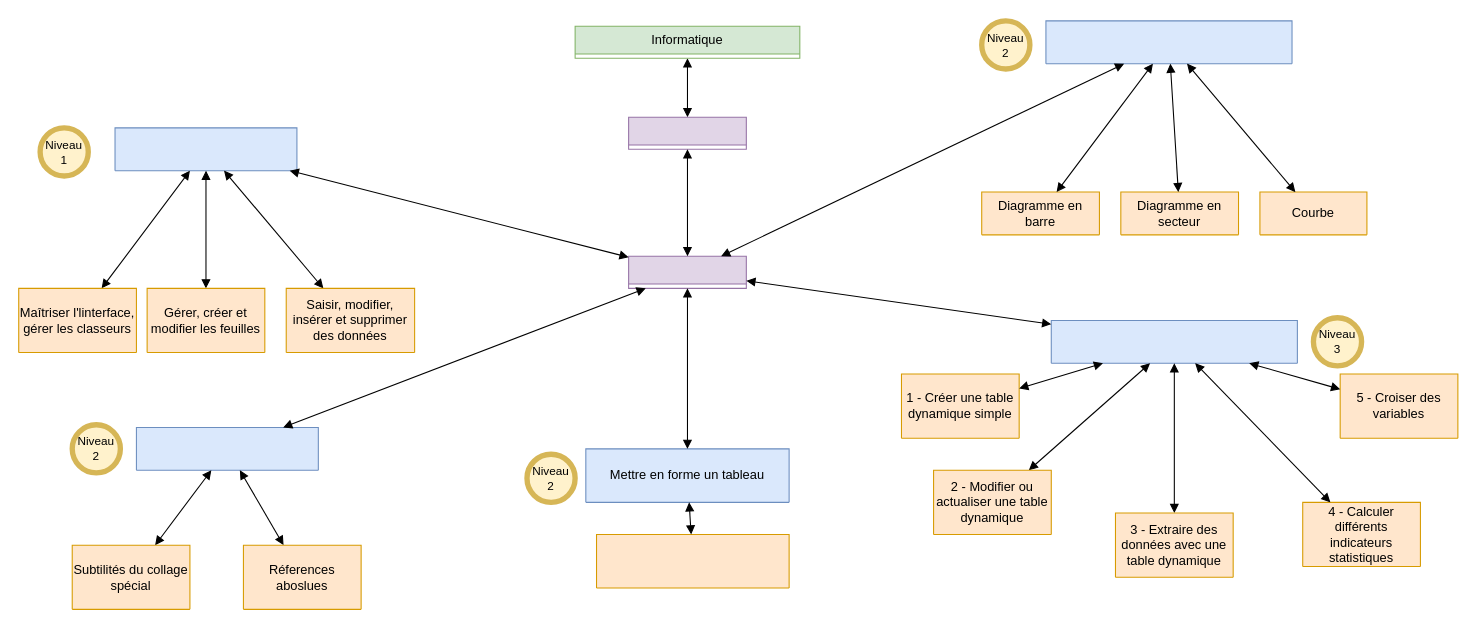
This 1477x628 diagram has some shape labels left out. Here are the shapes that lost their labels. From the top down, the centre of each, then its label:
the point at 1168,42: Produire des graphiques
the point at 205,149: Débuter avec Calc
the point at 687,132: Suite Libre Office
the point at 687,271: Calc
the point at 1173,341: Utiliser les tables dynamiques
the point at 226,448: Utiliser Calc efficacement
the point at 692,560: Mise en forme d'un tableau
